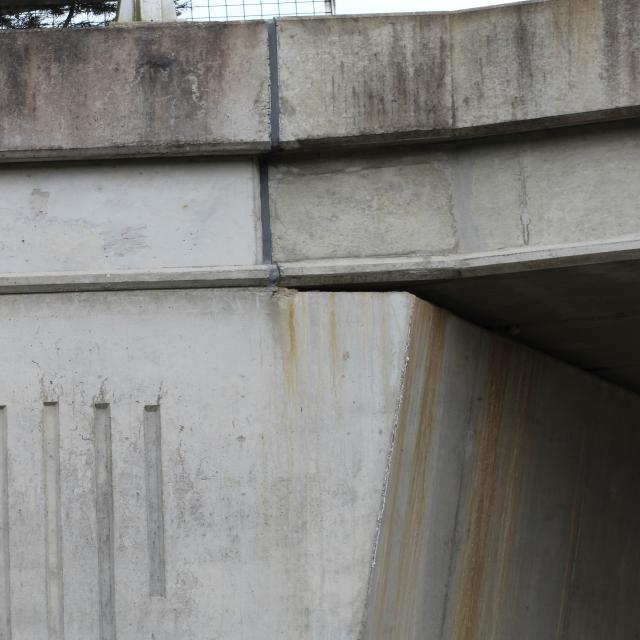corrosion: (276, 292, 640, 640)
